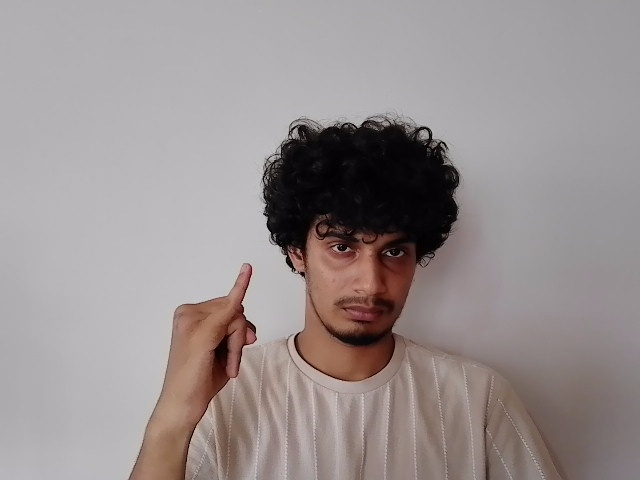bad: (165, 264, 261, 399)
